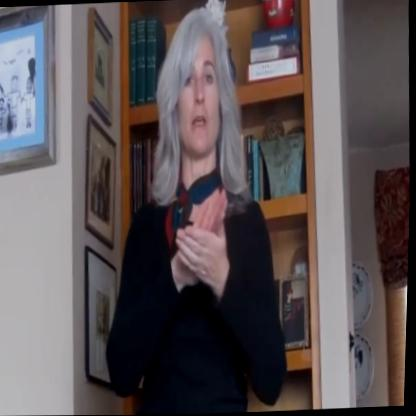NiceToMeetYou: (161, 183, 238, 325)
